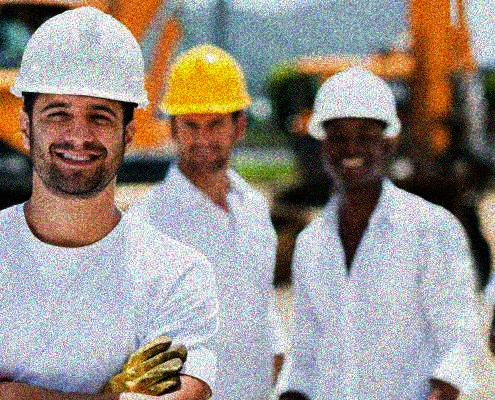helmet: (8, 3, 152, 198), (304, 65, 405, 190), (157, 42, 251, 168)
